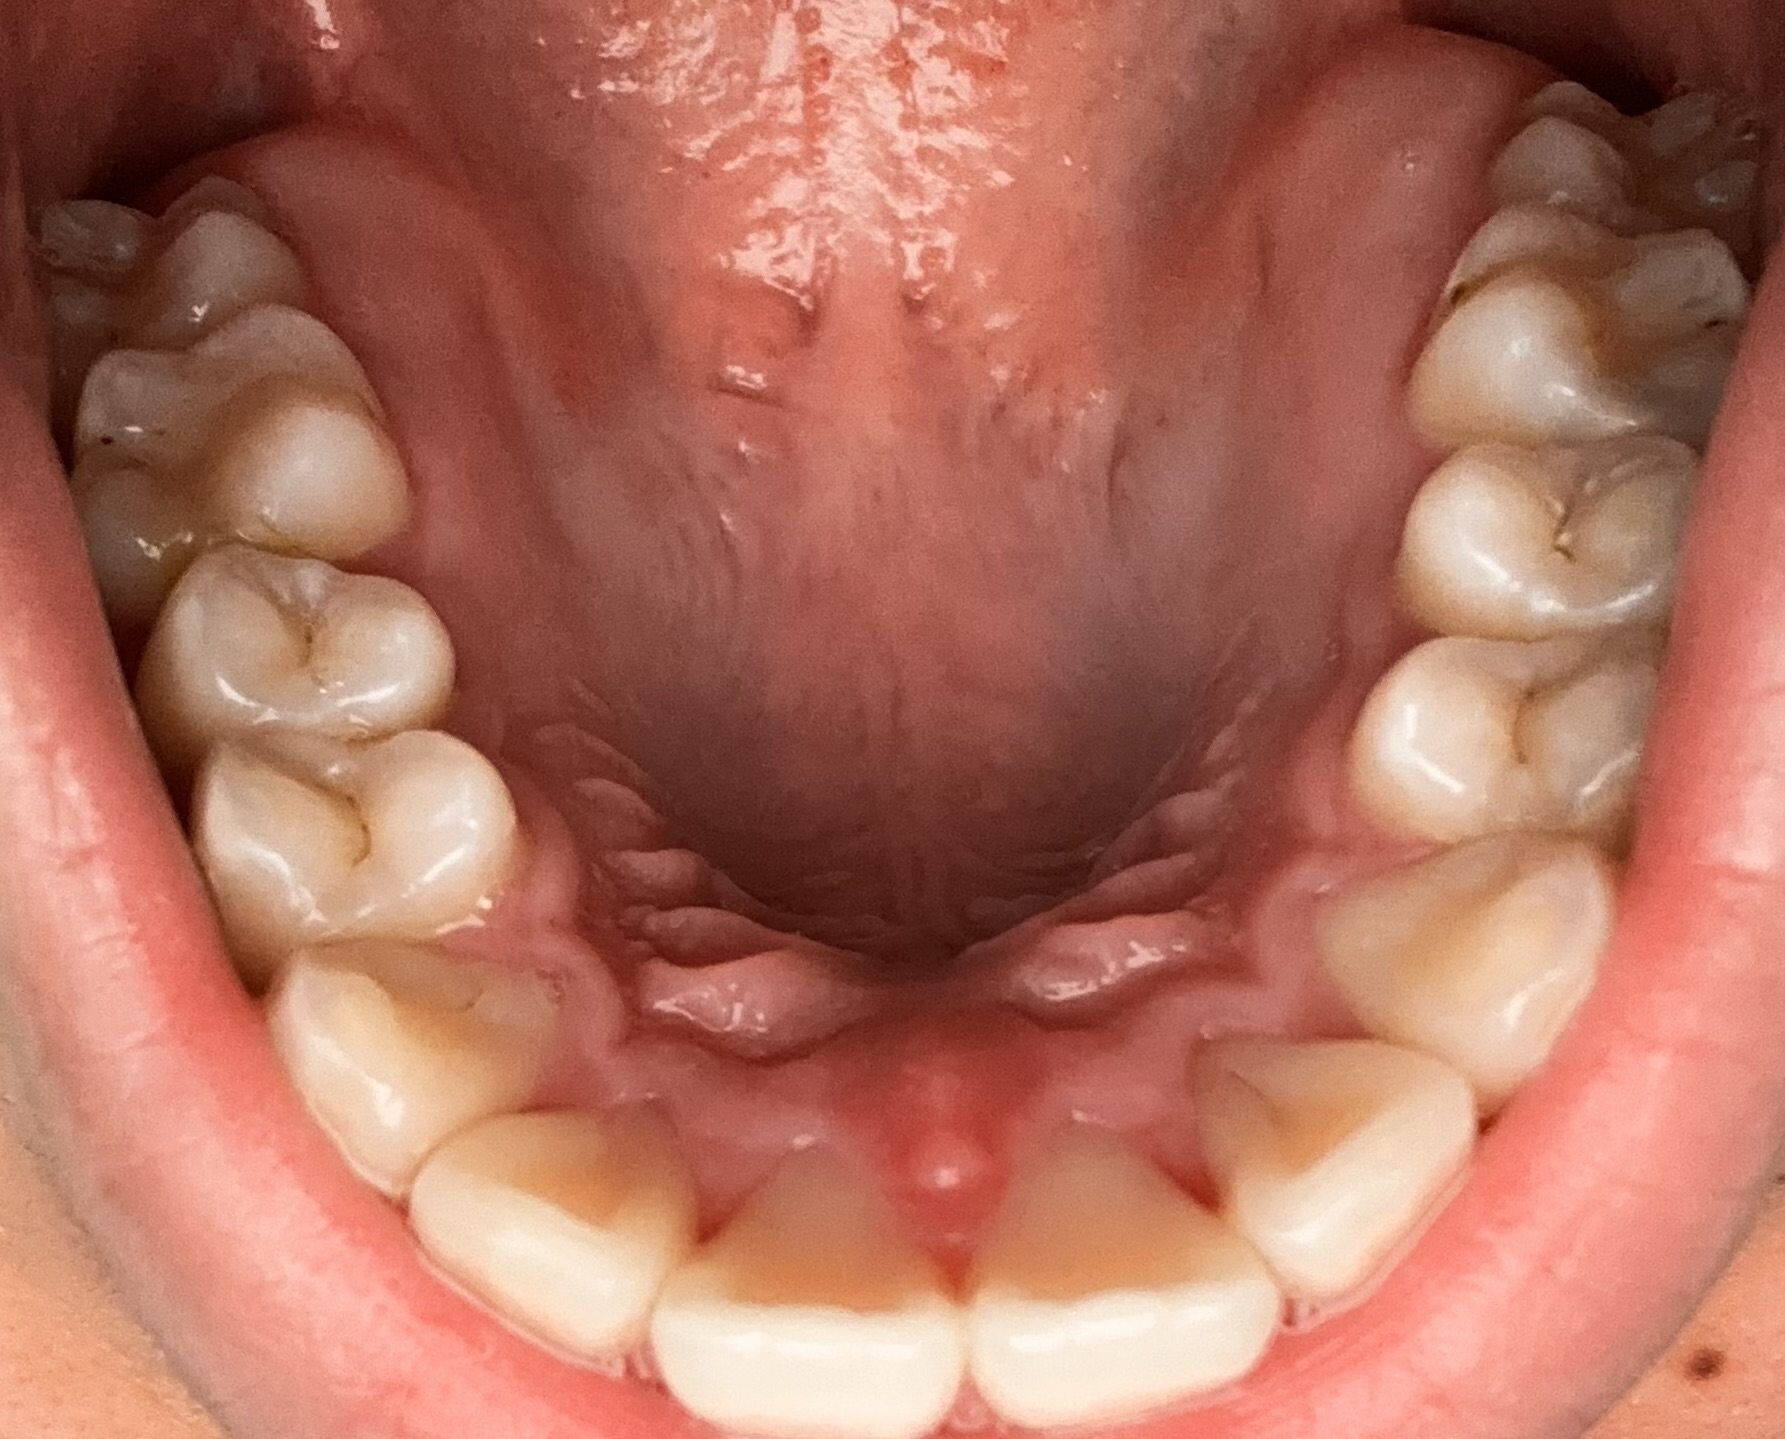teeth: (976, 1135, 1274, 1413), (671, 1145, 951, 1426), (1421, 219, 1725, 439), (84, 329, 376, 557), (1214, 1048, 1466, 1298), (288, 966, 550, 1191), (1342, 844, 1582, 1081), (138, 561, 449, 743), (1367, 653, 1651, 837), (204, 743, 470, 937), (1411, 465, 1700, 623), (421, 1114, 644, 1314), (43, 182, 289, 361)
